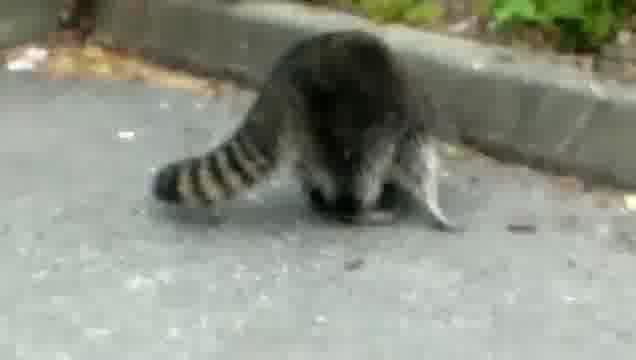raccoon: (146, 27, 467, 242)
